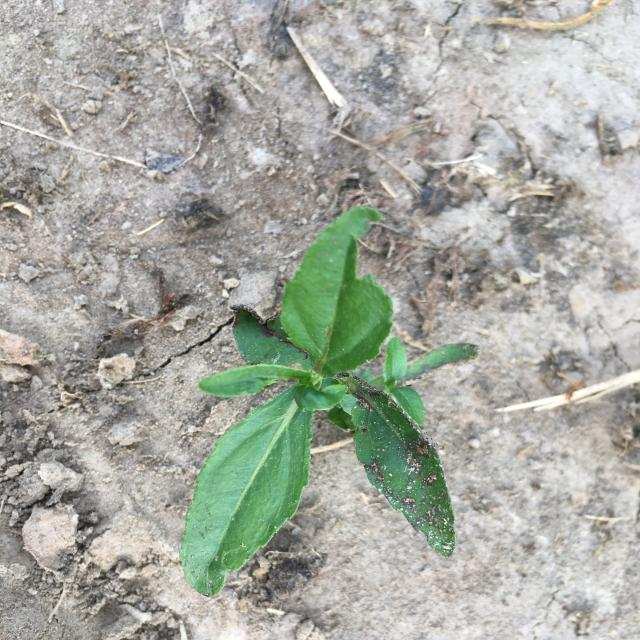Eclipta: (178, 205, 480, 598)
